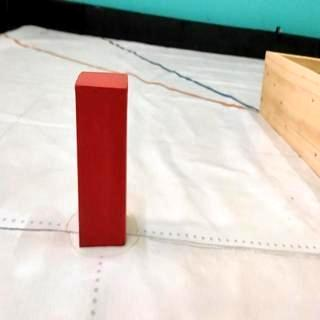redbox: (74, 72, 128, 246)
